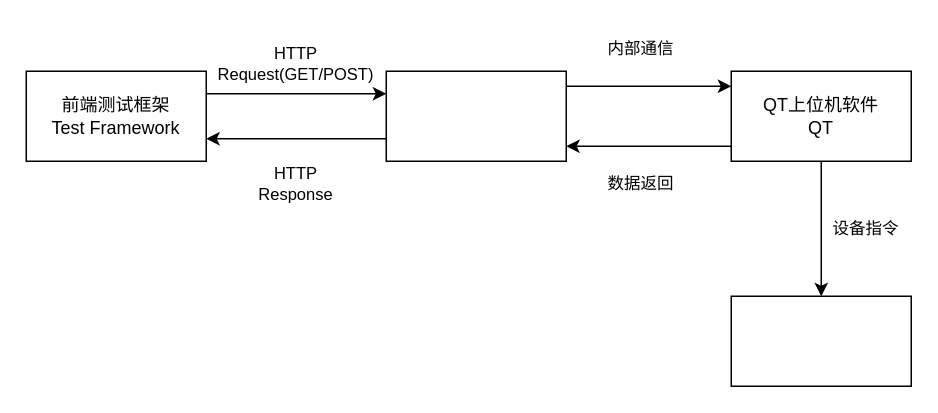
This 938x413 diagram has some shape labels left out. Each missing label, with the centre of its shape:
PLC设备: (820,340)
QT Web层 Web: (475,115)
